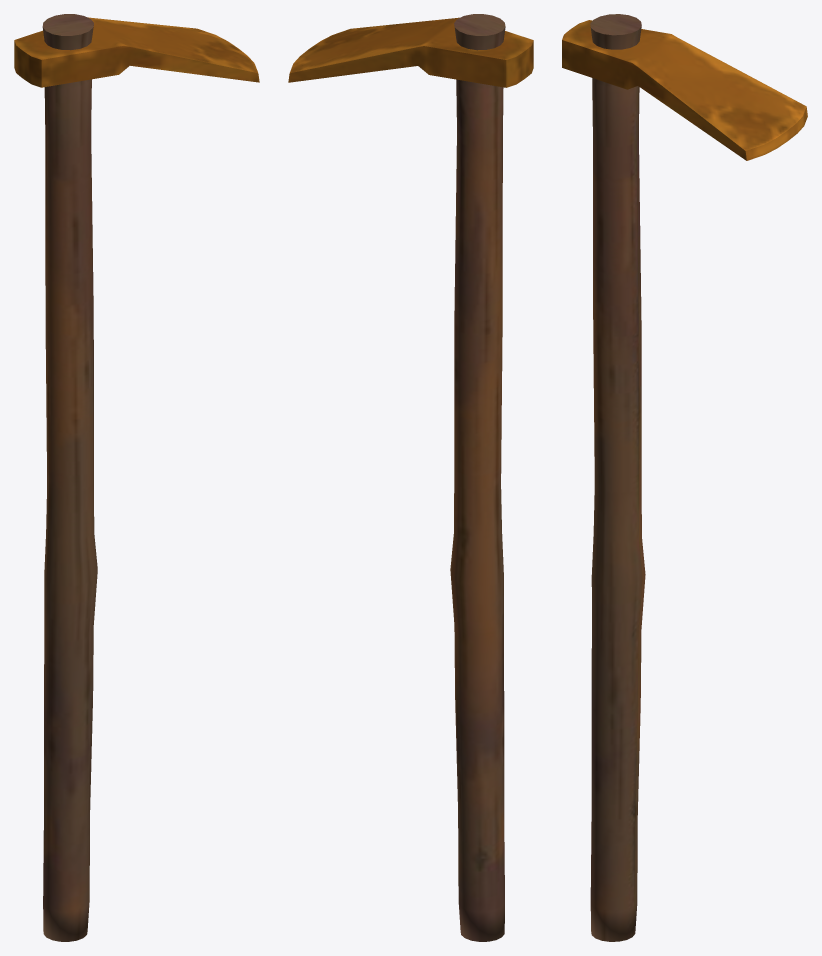
The model's file is Hoe_Bronze.gltf.
3 renders of one model, left to right at view 1: azimuth 30°, elevation 25°; view 2: azimuth 150°, elevation 25°; view 3: azimuth 330°, elevation 25°, orthographic.
Parts seen in each view (by area): view 1: Hoe_Bronze; view 2: Hoe_Bronze; view 3: Hoe_Bronze.
Part boxes in pixels (x1,y1,x2,y2): Hoe_Bronze: (14,14,259,941); Hoe_Bronze: (288,14,533,941); Hoe_Bronze: (562,14,807,941).
Size of the model in its own units: 0.2558 by 1.02 by 0.1248.
1 material, 1 textured.
